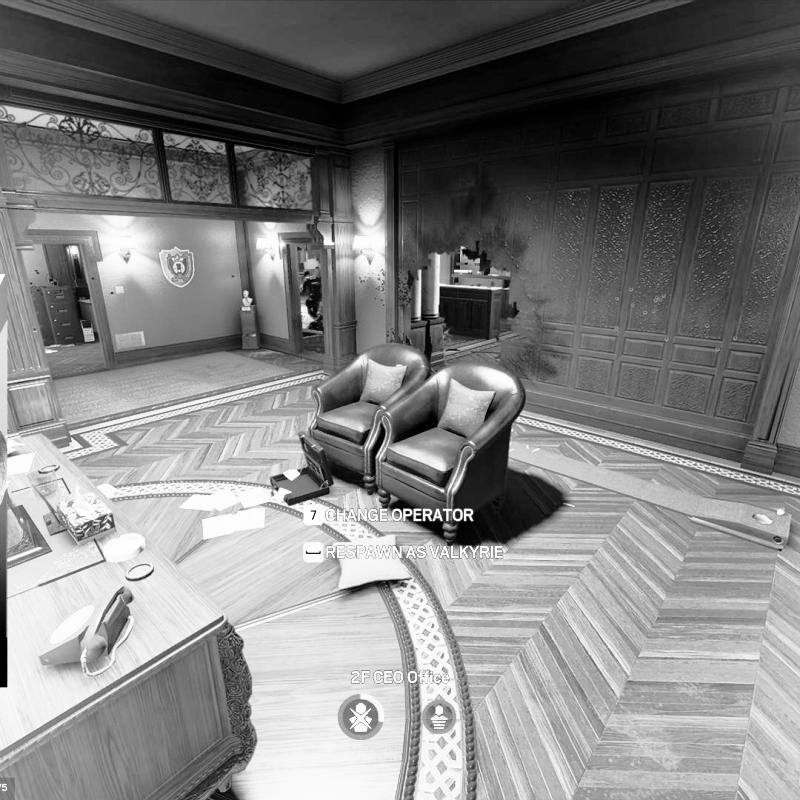Character: (299, 268, 322, 323)
Head: (302, 269, 312, 278)
